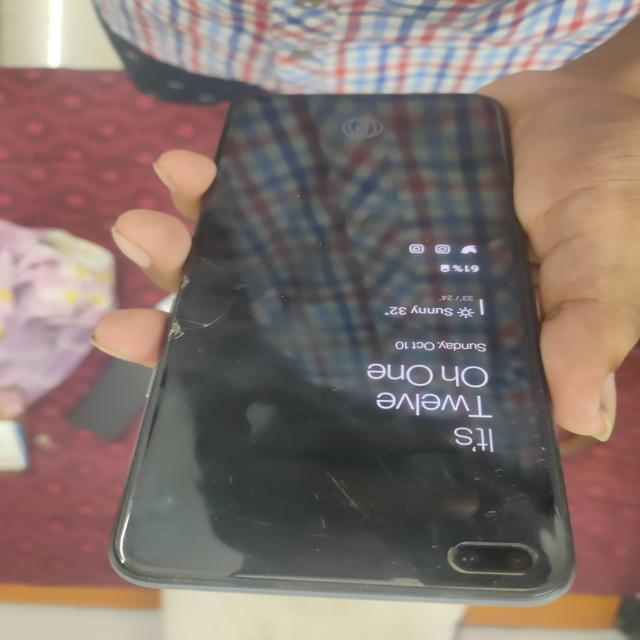Phone: (106, 80, 584, 614)
